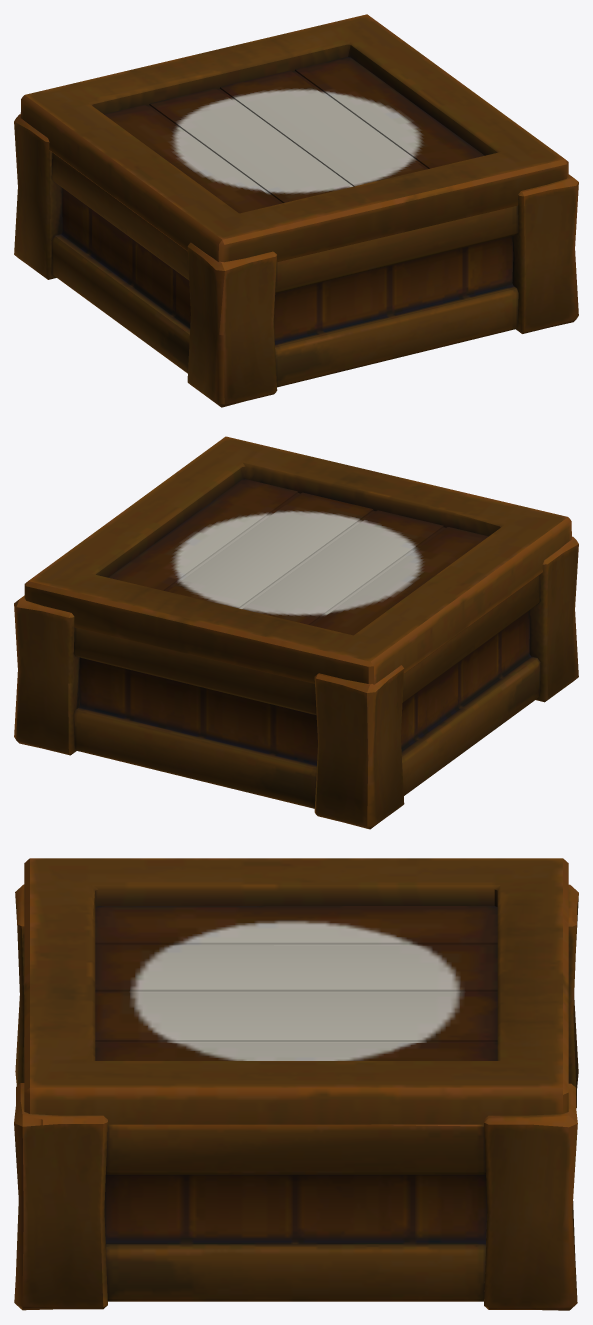
File: CreateBox.fbx
3 renders of one model, top to bottom at view 1: azimuth 30°, elevation 25°; view 2: azimuth 150°, elevation 25°; view 3: azimuth 270°, elevation 25°, orthographic. The views are drawn at different scales.
Visible parts, largest first — view 1: m_sk_crate_01_Lid_0, m_sk_crate_01_Body_0; view 2: m_sk_crate_01_Lid_0, m_sk_crate_01_Body_0; view 3: m_sk_crate_01_Lid_0, m_sk_crate_01_Body_0.
Part boxes in pixels (left/top/right/bottom): m_sk_crate_01_Lid_0: left=20, top=14, right=568, bottom=262; m_sk_crate_01_Body_0: left=14, top=114, right=578, bottom=407; m_sk_crate_01_Lid_0: left=24, top=436, right=571, bottom=684; m_sk_crate_01_Body_0: left=14, top=536, right=578, bottom=829; m_sk_crate_01_Lid_0: left=24, top=858, right=568, bottom=1124; m_sk_crate_01_Body_0: left=14, top=884, right=578, bottom=1310.
Size of the model in its own units: 1.04 by 1.04 by 0.452.
2 materials, 2 textured.
